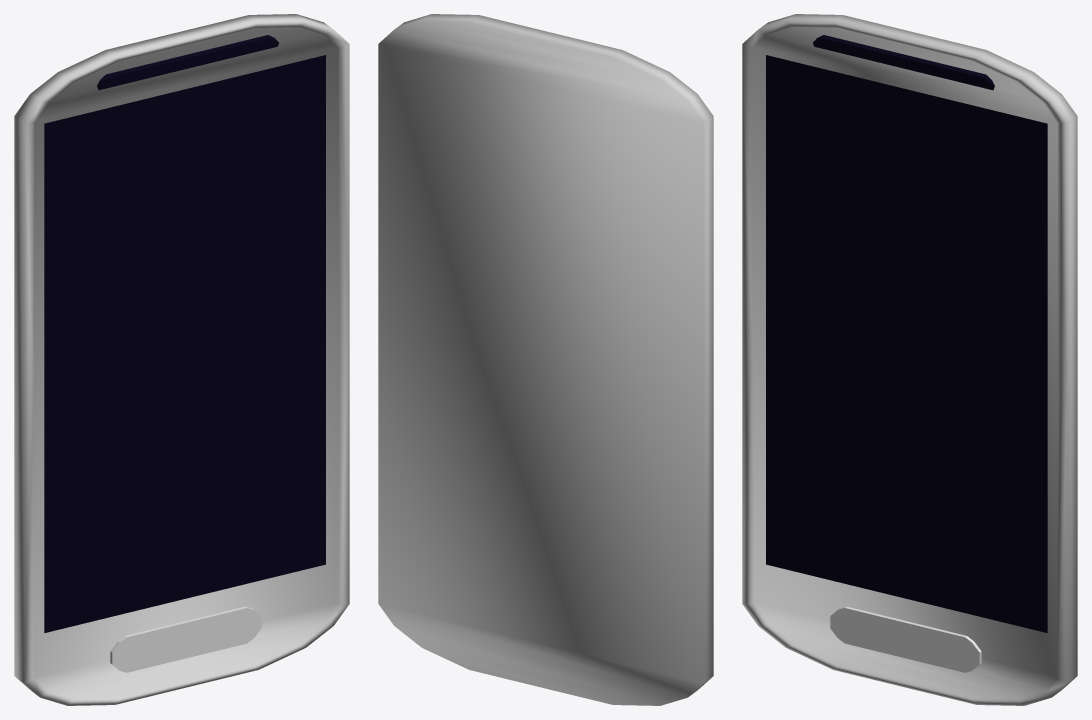
File: Phone.fbx
The picture shows the model from 3 angles, left to right: view 1: azimuth 30°, elevation 25°; view 2: azimuth 150°, elevation 25°; view 3: azimuth 330°, elevation 25°; orthographic projection.
Parts seen in each view (by area): view 1: Cube.002, Cube, Plane, Cube.001; view 2: Cube; view 3: Cube.002, Cube, Plane, Cube.001.
Part boxes in pixels (x1,y1,x2,y2): Cube.002: (44,55,325,632); Cube: (14,14,349,705); Plane: (110,606,261,672); Cube.001: (97,35,278,90); Cube: (378,14,713,705); Cube.002: (766,55,1047,632); Cube: (742,14,1077,705); Plane: (830,606,981,672); Cube.001: (813,35,994,90).
Size of the model in its own units: 2 by 3.81 by 0.1288.
